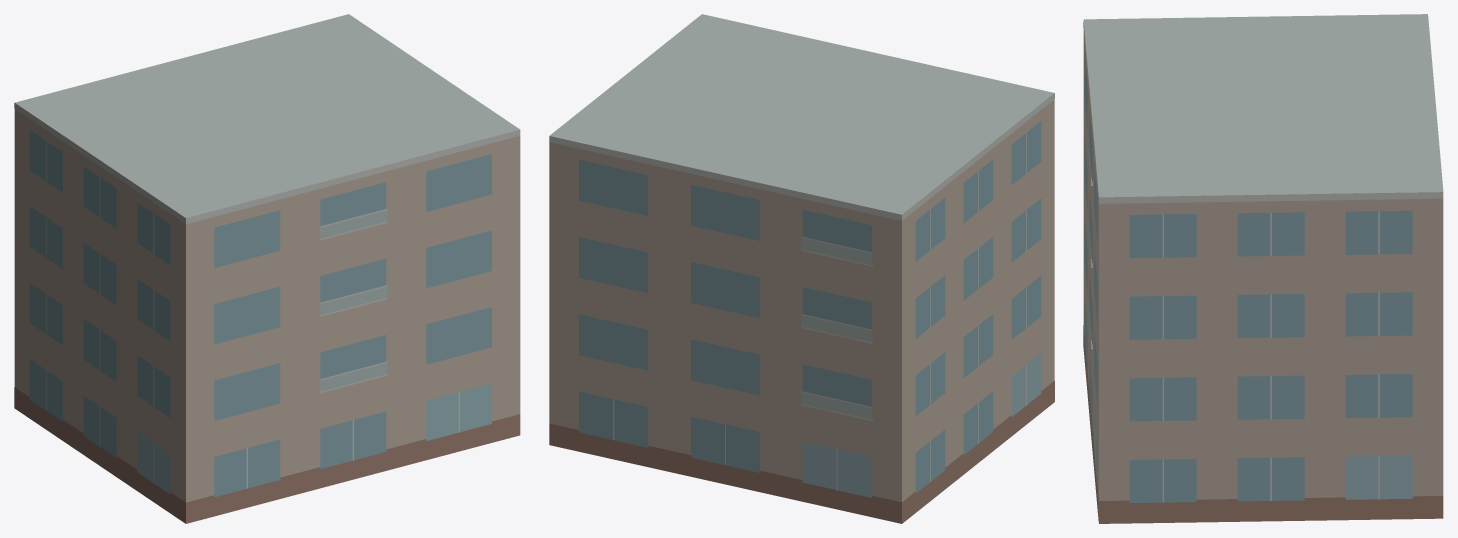
The model's file is residential-50fef1e3-a3fe-47c0-acfd-38db72ea3ef4.glb.
3 renders of one model, left to right at view 1: azimuth 30°, elevation 25°; view 2: azimuth 150°, elevation 25°; view 3: azimuth 270°, elevation 25°, orthographic. The views are drawn at different scales.
Parts seen in each view (by area): view 1: residential-50fef1e3-a3fe-47c0-acfd-38db72ea3ef4.tmp; view 2: residential-50fef1e3-a3fe-47c0-acfd-38db72ea3ef4.tmp; view 3: residential-50fef1e3-a3fe-47c0-acfd-38db72ea3ef4.tmp.
Boxes of the visible parts, box(x1,y1,x2,y2) form: residential-50fef1e3-a3fe-47c0-acfd-38db72ea3ef4.tmp: box(14, 14, 520, 523); residential-50fef1e3-a3fe-47c0-acfd-38db72ea3ef4.tmp: box(549, 14, 1054, 523); residential-50fef1e3-a3fe-47c0-acfd-38db72ea3ef4.tmp: box(1083, 14, 1443, 523).
Bounding box in the file's own units: 14.7 × 12.2 × 12.2.
